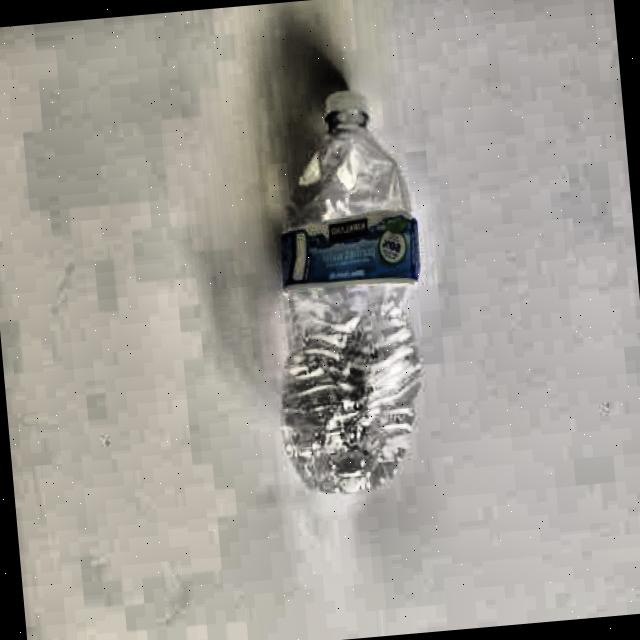plastic: (257, 82, 440, 503)
